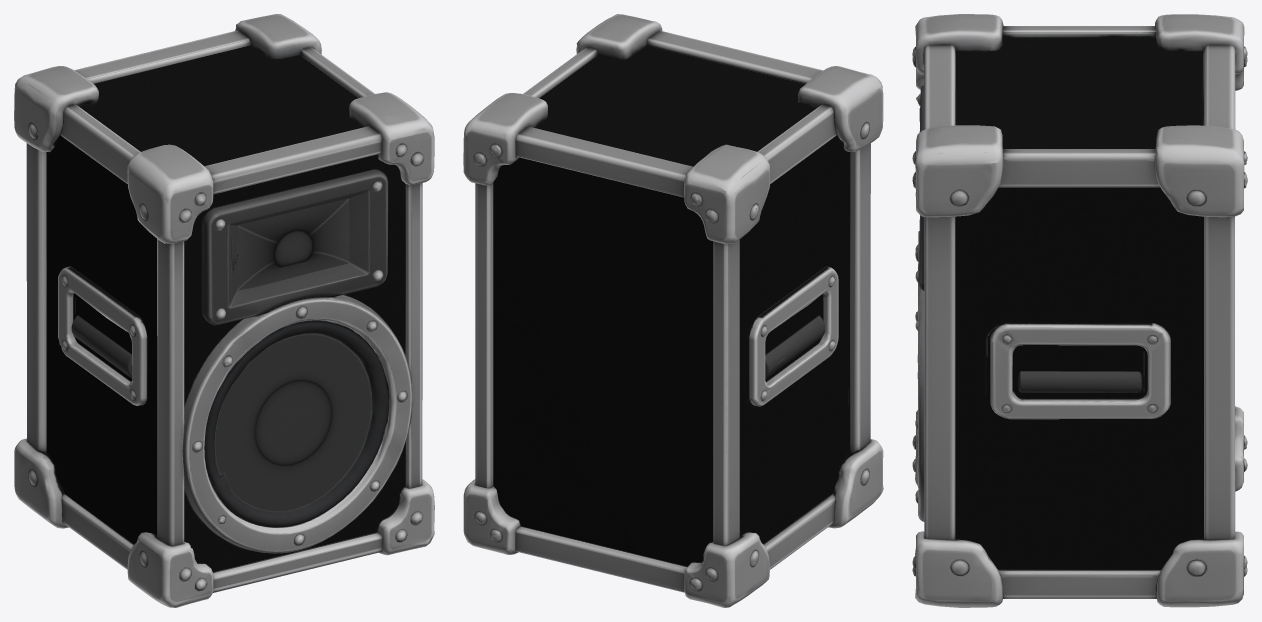
Rendered from Meshy_AI_Industrial_Speaker_Case_20261124_texture.glb.
3 views of the same model, side by side, from view 1: azimuth 30°, elevation 25°; view 2: azimuth 150°, elevation 25°; view 3: azimuth 270°, elevation 25° (orthographic). The views are drawn at different scales.
Size of the model in its own units: 0.6289 by 0.9502 by 0.6177.
1 material, 1 textured.
